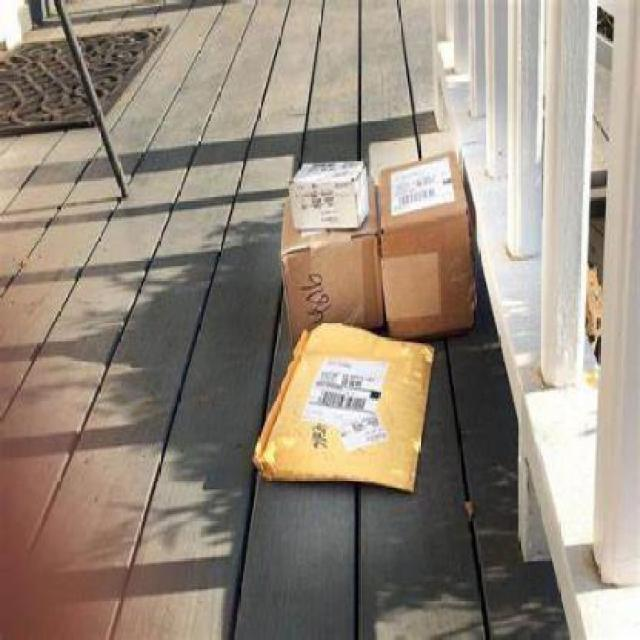box: (380, 151, 473, 341), (282, 181, 384, 354), (287, 158, 365, 230)
